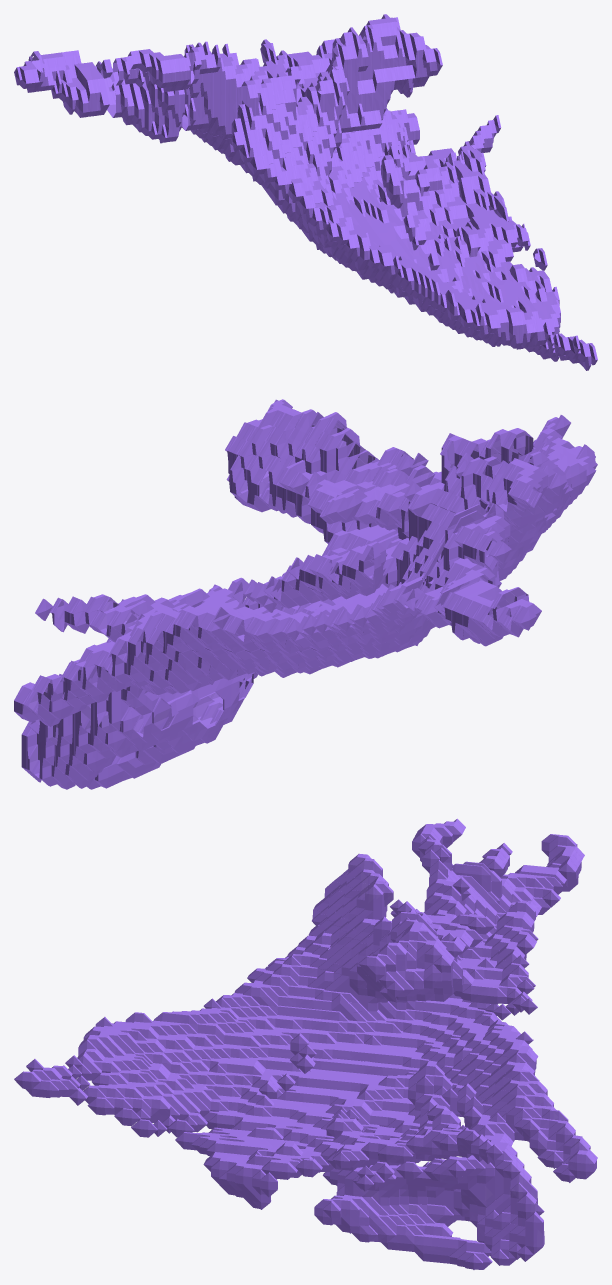
Rendered from SVV_BWM-DR03.gltf.
3 views of the same model, one above another, from view 1: azimuth 30°, elevation 25°; view 2: azimuth 150°, elevation 25°; view 3: azimuth 270°, elevation 25° (orthographic). The views are drawn at different scales.
Parts seen in each view (by area): view 1: BWM-DR03; view 2: BWM-DR03; view 3: BWM-DR03.
Boxes of the visible parts, box(x1,y1,x2,y2) form: BWM-DR03: box(14, 14, 597, 370); BWM-DR03: box(14, 399, 597, 789); BWM-DR03: box(14, 818, 597, 1269).
Size of the model in its own units: 33833 by 23733 by 42541.
